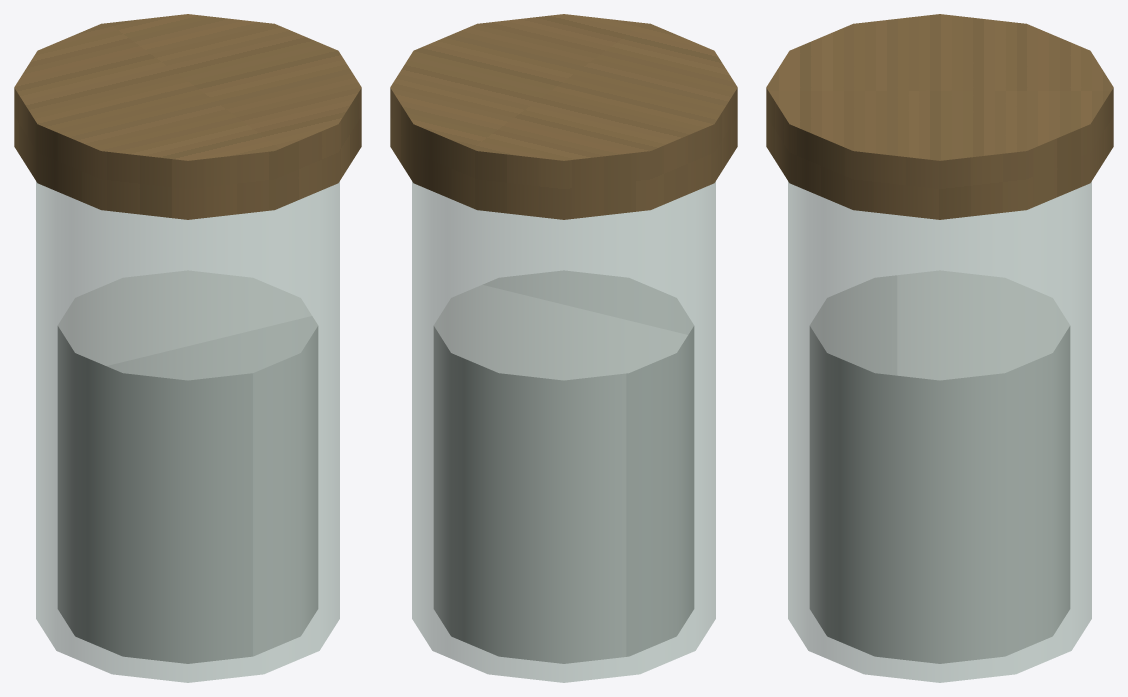
File: jar.glb
3 views of the same model, side by side, from view 1: azimuth 30°, elevation 25°; view 2: azimuth 150°, elevation 25°; view 3: azimuth 270°, elevation 25° (orthographic).
Parts seen in each view (by area): view 1: jar, dyn_color_tint; view 2: jar, dyn_color_tint; view 3: jar, dyn_color_tint.
Boxes of the visible parts, box(x1,y1,x2,y2) form: jar: box(14, 14, 361, 682); dyn_color_tint: box(57, 270, 318, 663); jar: box(390, 14, 737, 682); dyn_color_tint: box(433, 270, 694, 663); jar: box(766, 14, 1113, 682); dyn_color_tint: box(809, 270, 1070, 663).
Size of the model in its own units: 0.1601 by 0.27 by 0.1601.
Materials: 3 (2 with a texture image).
